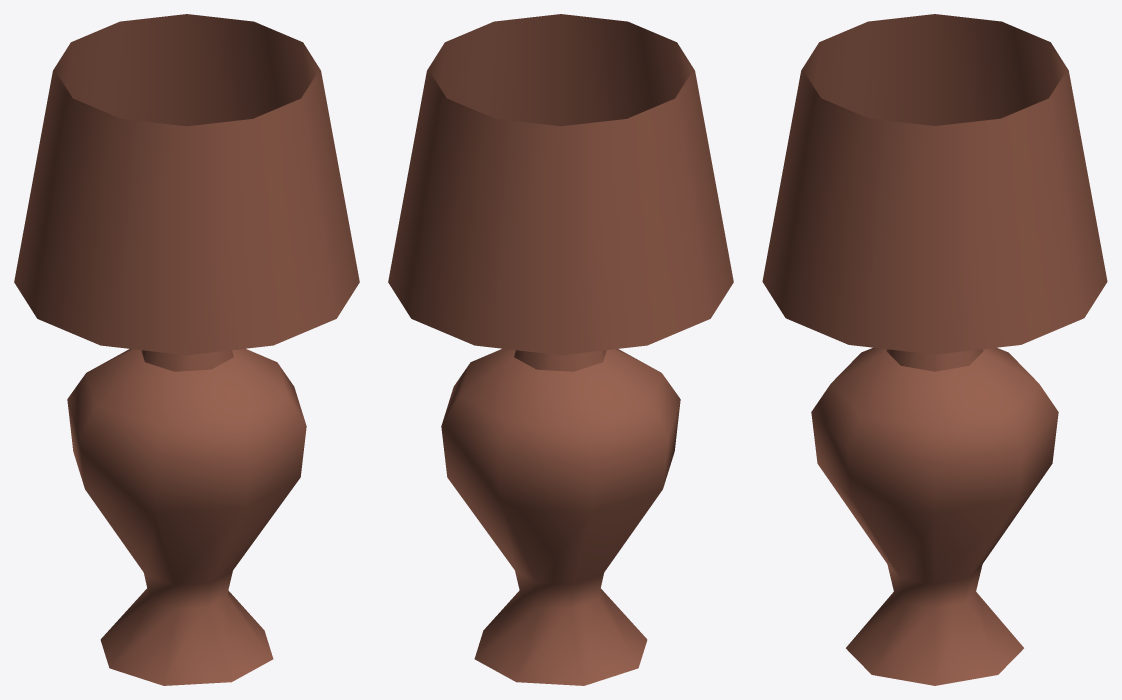
File: Furniture_Lamp_RoundShort.fbx
3 views of the same model, side by side, from view 1: azimuth 30°, elevation 25°; view 2: azimuth 150°, elevation 25°; view 3: azimuth 270°, elevation 25° (orthographic).
Parts seen in each view (by area): view 1: lamp_001; view 2: lamp_001; view 3: lamp_001.
Boxes of the visible parts, bbox=[...] form: lamp_001: bbox=[14, 14, 359, 685]; lamp_001: bbox=[388, 14, 733, 685]; lamp_001: bbox=[762, 14, 1107, 685].
Size of the model in its own units: 37.75 by 69.71 by 37.75.
